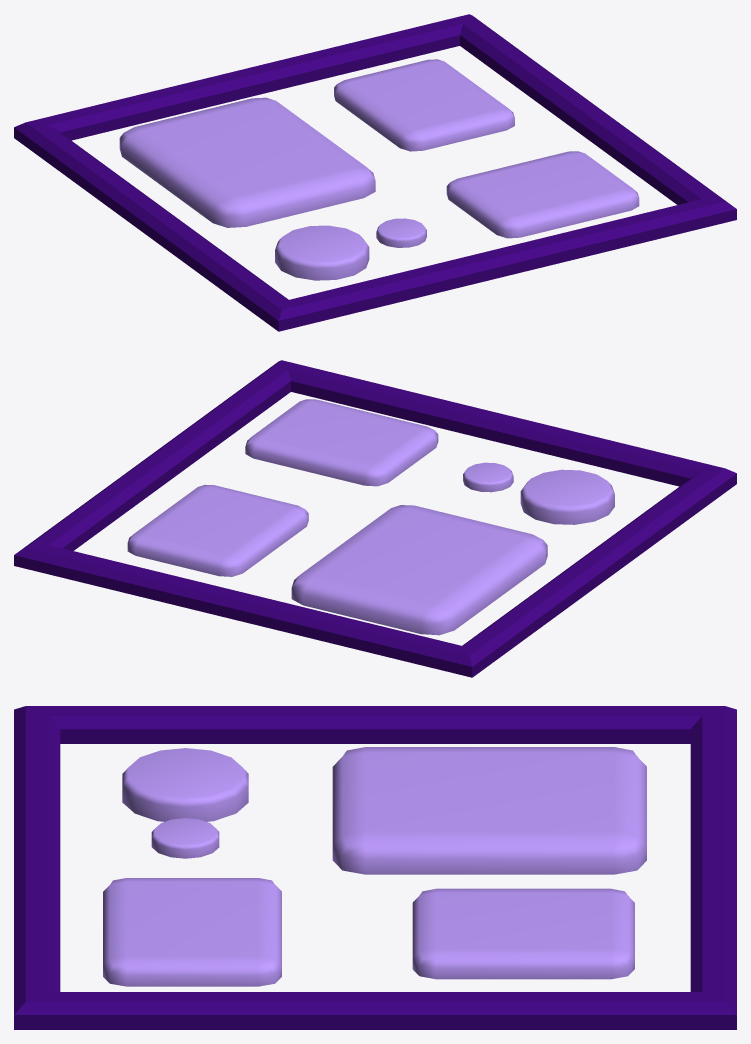
File: wall_deco3.fbx
3 views of the same model, one above another, from view 1: azimuth 30°, elevation 25°; view 2: azimuth 150°, elevation 25°; view 3: azimuth 270°, elevation 25° (orthographic). The views are drawn at different scales.
Visible parts, largest first — view 1: wall_deco3; view 2: wall_deco3; view 3: wall_deco3.
Part boxes in pixels (x1,y1,x2,y2): wall_deco3: [14, 14, 736, 331]; wall_deco3: [14, 360, 736, 677]; wall_deco3: [14, 706, 736, 1029].
Size of the model in its own units: 549 by 24.35 by 549.
